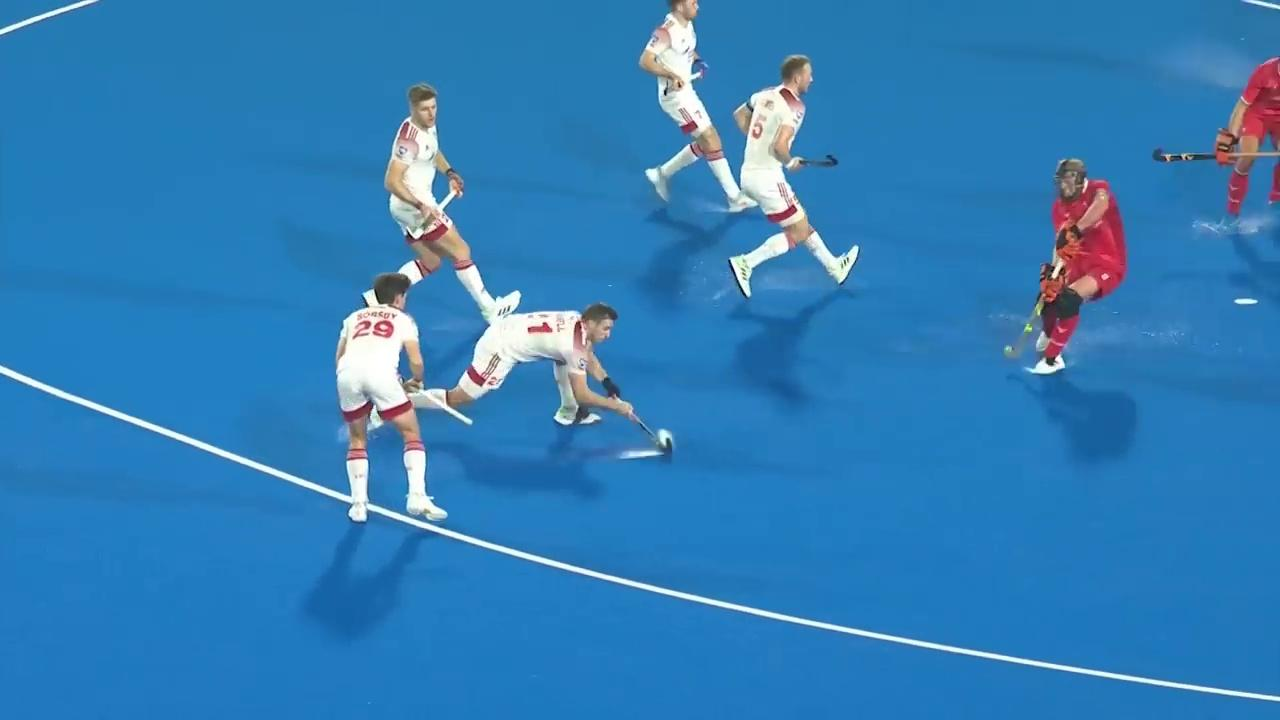ball: (650, 425, 689, 462)
